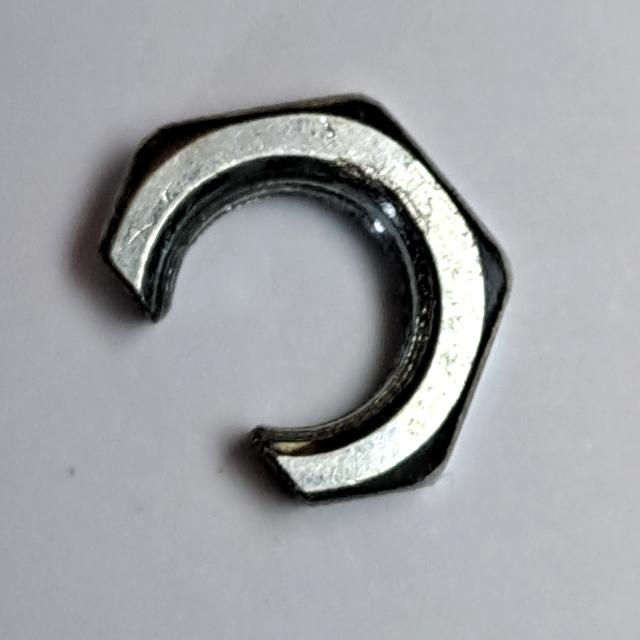Fracture: (83, 83, 522, 515)
